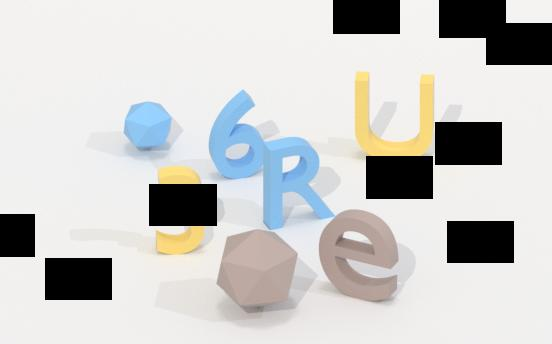3: (153, 162, 207, 257)
6: (207, 85, 268, 181)
R-hoa: (259, 132, 335, 233)
dagiac: (214, 226, 300, 311), (122, 99, 175, 152)
e: (316, 204, 402, 303)
u: (353, 67, 437, 164)
